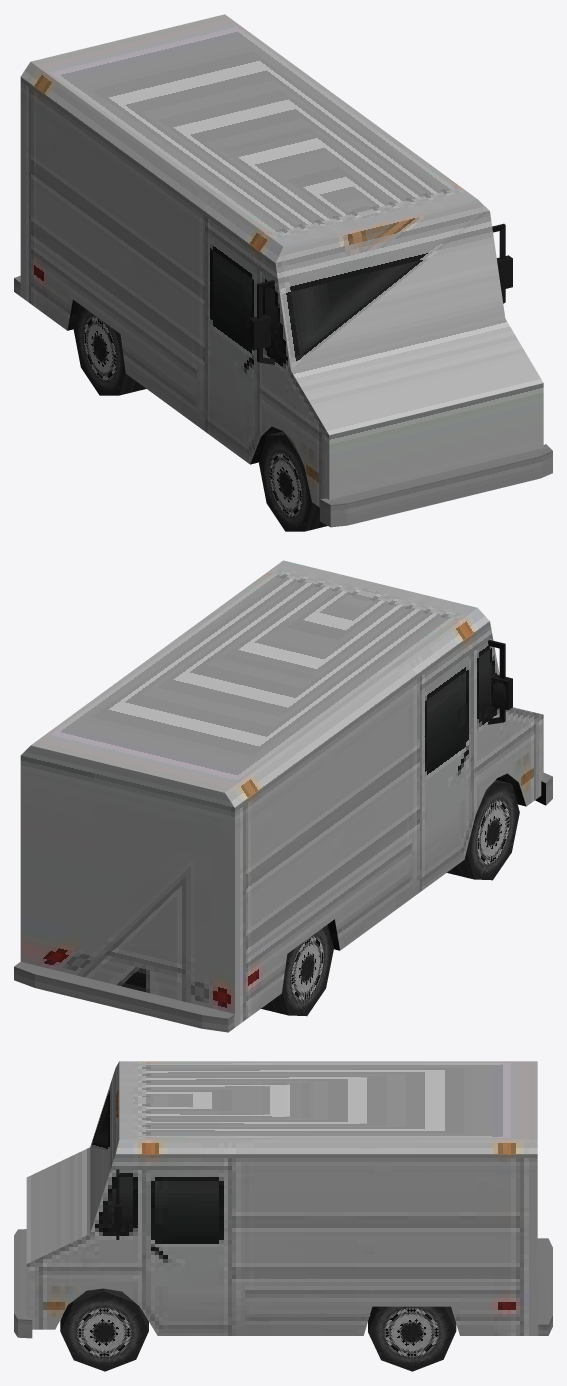
File: car8.lod.glb
The picture shows the model from 3 angles, top to bottom: view 1: azimuth 30°, elevation 25°; view 2: azimuth 150°, elevation 25°; view 3: azimuth 270°, elevation 25°; orthographic projection. The views are drawn at different scales.
Parts seen in each view (by area): view 1: Car8; view 2: Car8; view 3: Car8.
Part boxes in pixels (<box>): Car8: <box>14,14,552,531</box>; Car8: <box>14,560,552,1032</box>; Car8: <box>14,1061,552,1371</box>.
Size of the model in its own units: 3.17 by 3.23 by 6.89.
1 material, 1 textured.
